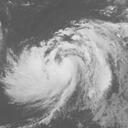cyclone: (41, 41, 100, 97)
